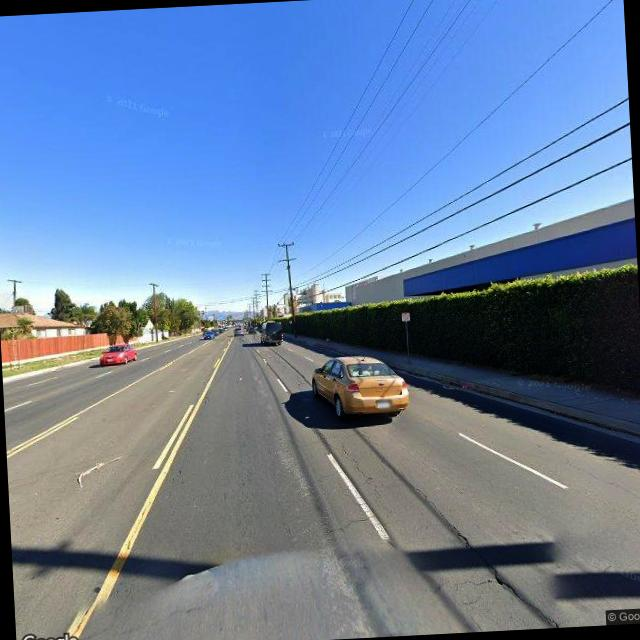crack: (402, 470, 560, 630), (320, 419, 394, 522)
